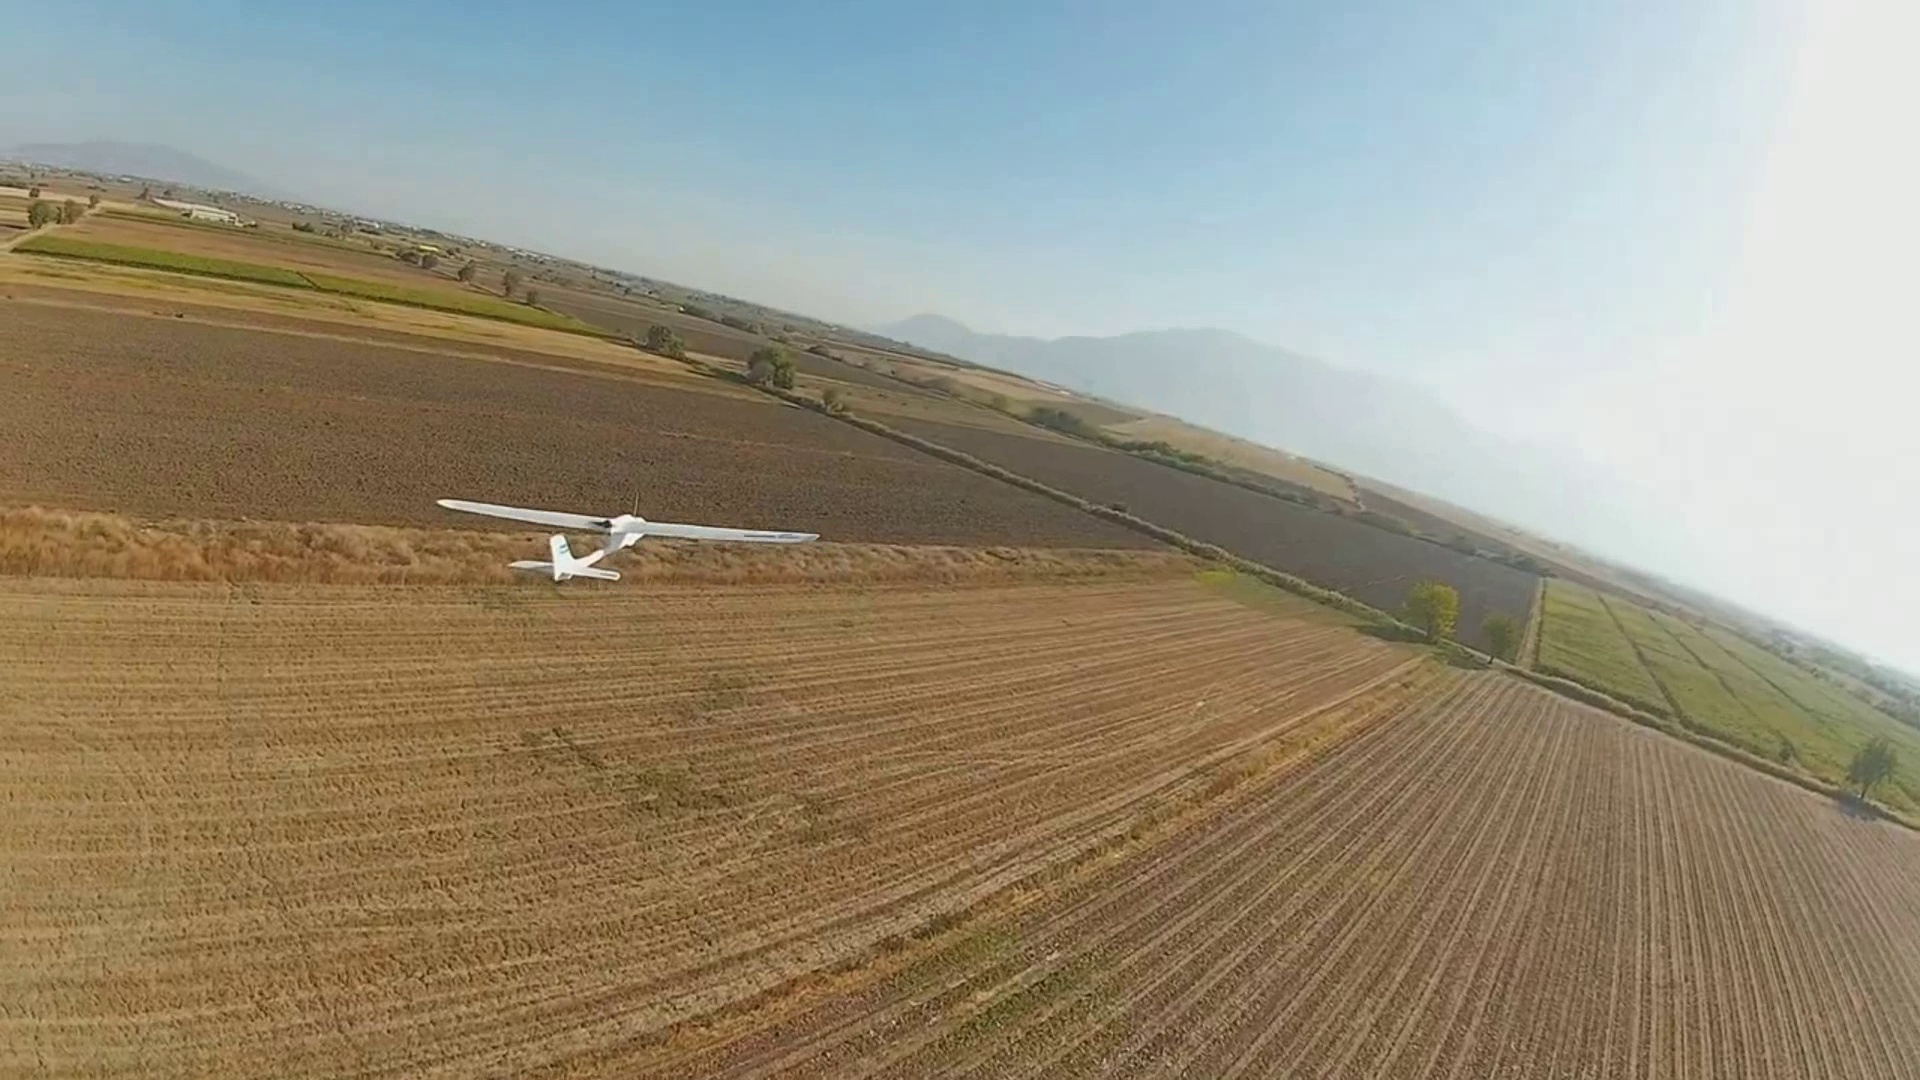airplane: (436, 485, 822, 587)
